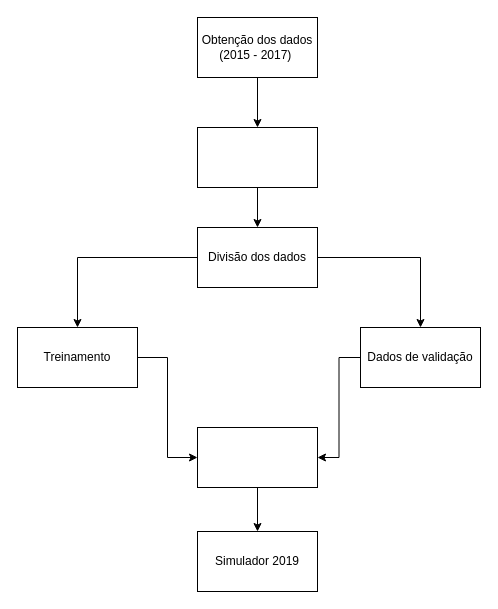
Image size: 498x609. Some labels were removed from this diagram. Here are the shapes that lost their labels. From the top down, the centre of each, then its label:
At point 257,157: "Extração de Features".
At point 257,457: "Acuracidade".
